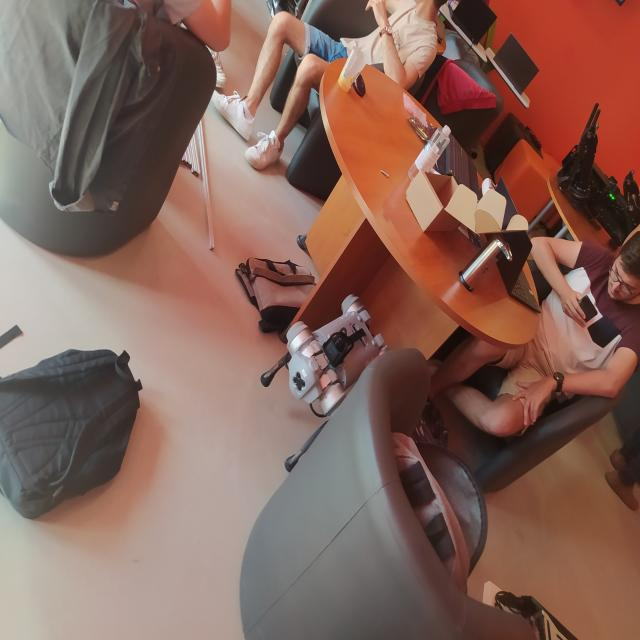unitree-go1-robot: (253, 281, 391, 474)
